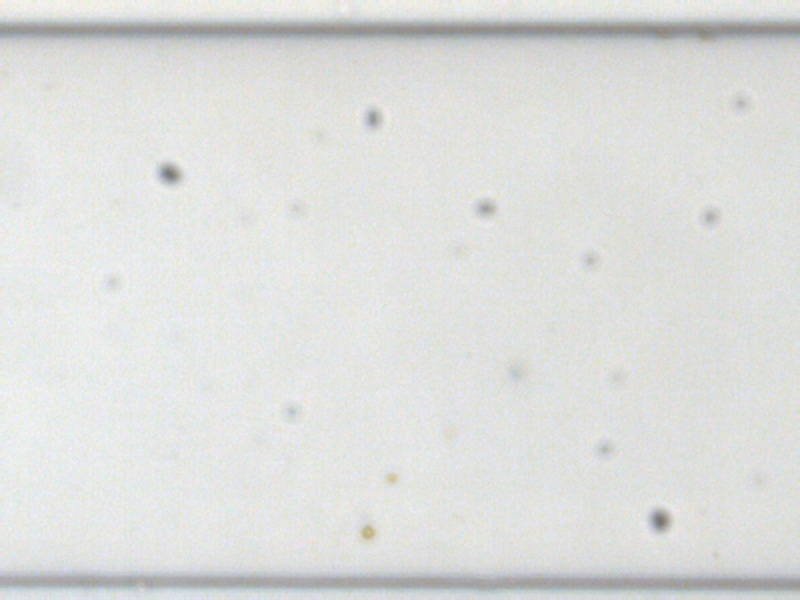Chlorella: (359, 524, 376, 541), (386, 469, 401, 484)
